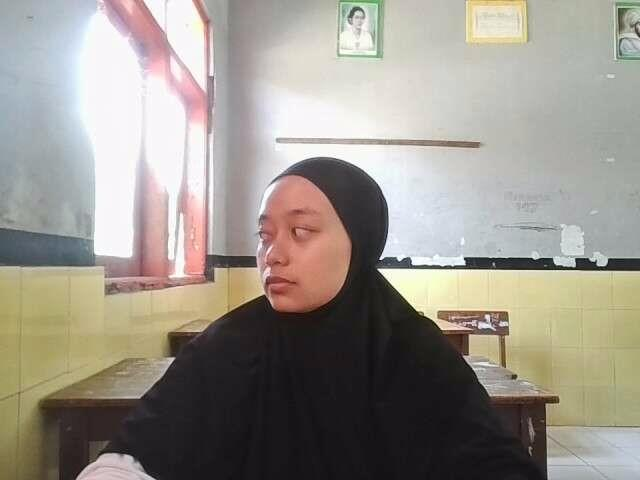cheating: (57, 151, 554, 480)
